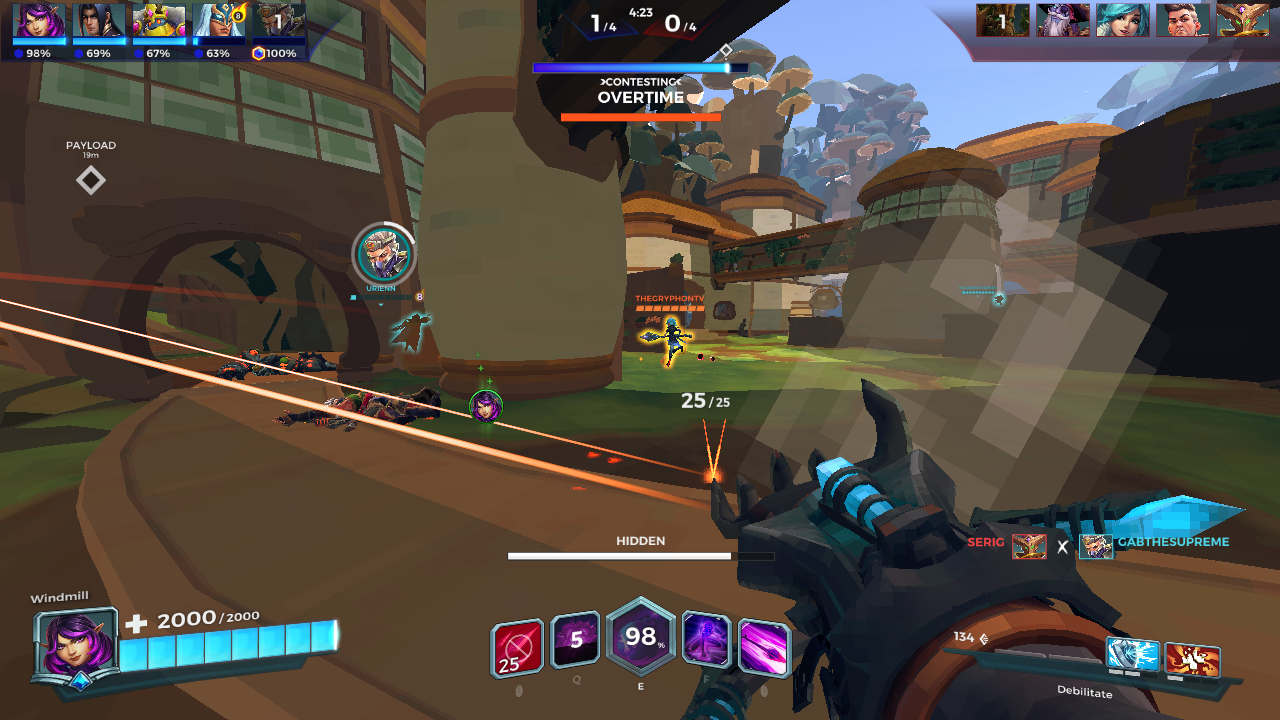model: (636, 312, 692, 367)
